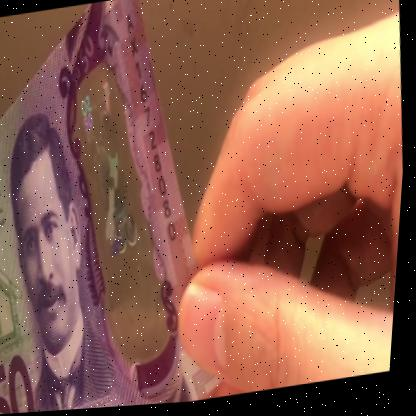50F: (68, 70, 170, 351)
